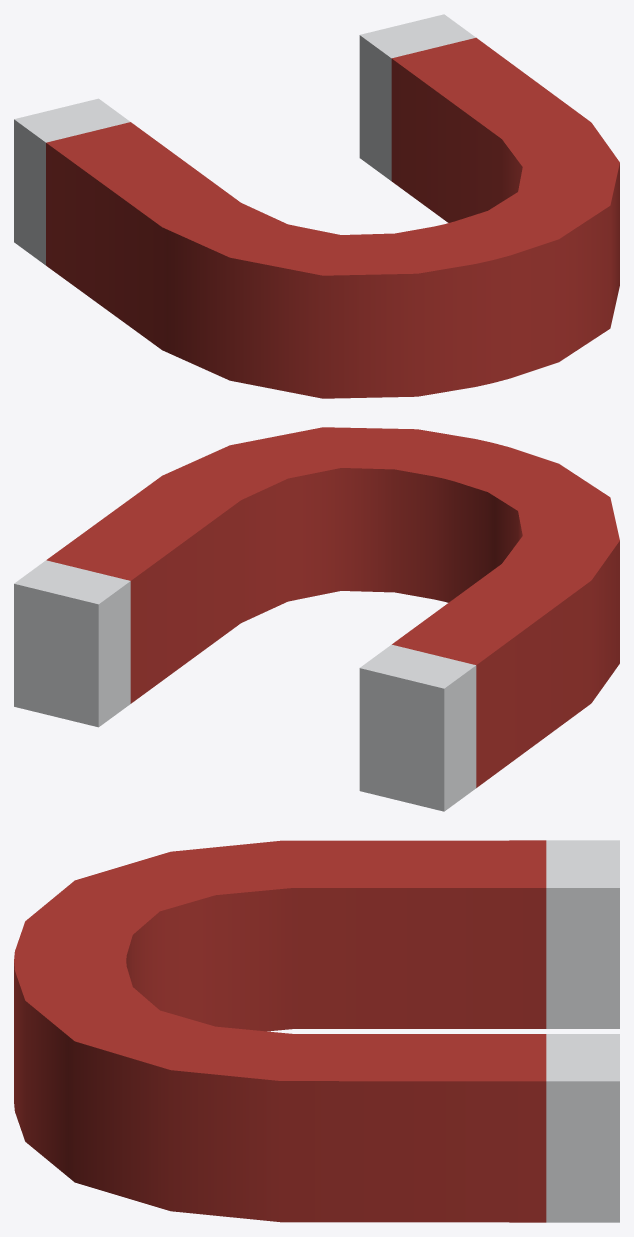
File: misc_magnet.glb
3 views of the same model, one above another, from view 1: azimuth 30°, elevation 25°; view 2: azimuth 150°, elevation 25°; view 3: azimuth 270°, elevation 25° (orthographic). The views are drawn at different scales.
Visible parts, largest first — view 1: misc_magnet; view 2: misc_magnet; view 3: misc_magnet.
Part boxes in pixels (box(x1,y1,x2,y2)): misc_magnet: box(14, 14, 619, 398); misc_magnet: box(14, 427, 619, 811); misc_magnet: box(14, 840, 619, 1222).
Bounding box in the file's own units: 11.78 × 3.22 × 12.53.
1 material, 1 textured.
